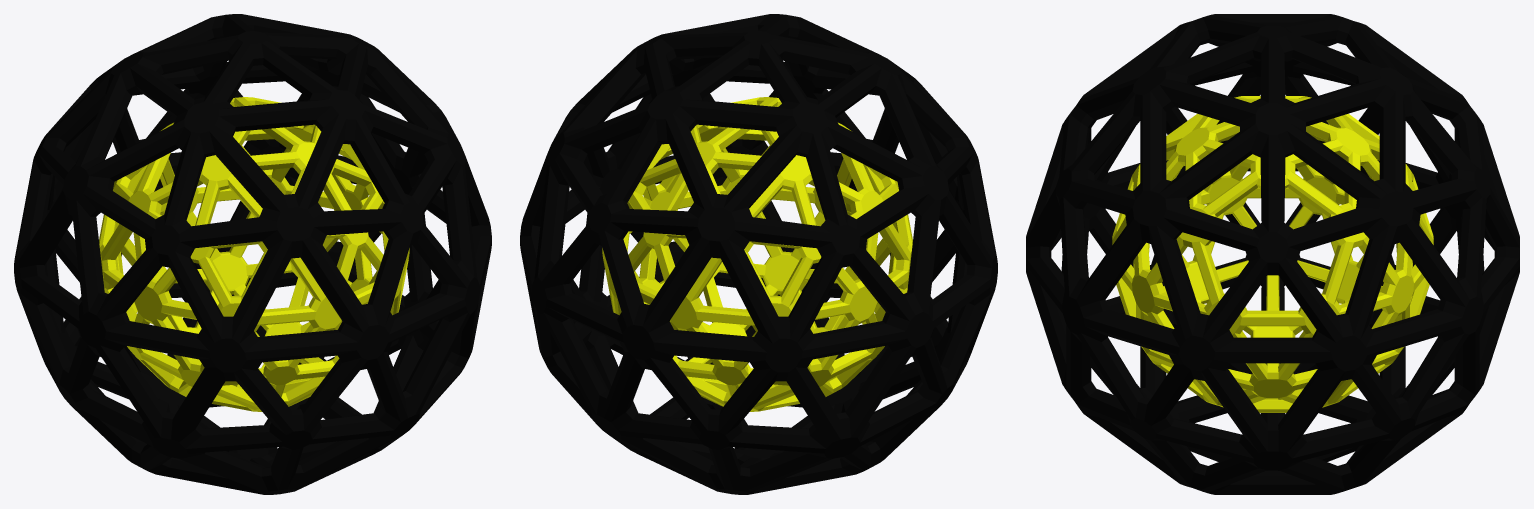
The picture shows the model from 3 angles, left to right: view 1: azimuth 30°, elevation 25°; view 2: azimuth 150°, elevation 25°; view 3: azimuth 270°, elevation 25°; orthographic projection. The views are drawn at different scales.
Visible parts, largest first — view 1: Icosphere; view 2: Icosphere; view 3: Icosphere.
Boxes of the visible parts, x1=… form: Icosphere: x1=14, y1=14, x2=491, y2=494; Icosphere: x1=520, y1=14, x2=997, y2=494; Icosphere: x1=1026, y1=14, x2=1519, y2=494.
Size of the model in its own units: 215 by 220 by 221.
